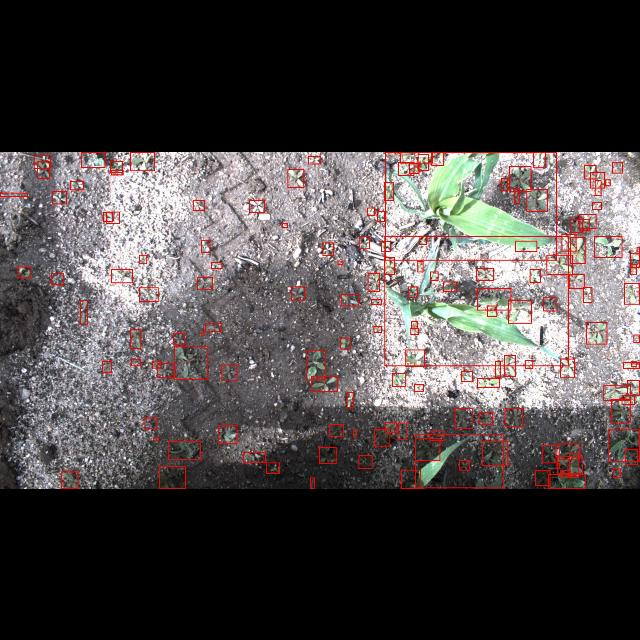crop: (384, 235, 568, 365), (385, 151, 557, 259), (415, 434, 503, 488)
weed: (174, 346, 208, 378), (608, 429, 640, 461), (477, 287, 511, 309), (168, 440, 200, 460), (482, 441, 508, 465), (306, 350, 326, 380), (159, 466, 185, 488), (594, 236, 622, 256), (548, 474, 586, 488), (416, 438, 440, 460), (508, 300, 532, 322), (547, 254, 573, 274), (526, 188, 548, 210), (586, 321, 608, 343), (510, 166, 530, 190), (130, 152, 154, 170), (558, 456, 582, 474), (612, 399, 630, 423), (604, 384, 630, 400), (570, 237, 586, 263), (312, 376, 338, 390), (402, 469, 421, 488), (454, 408, 472, 428), (218, 425, 238, 443), (558, 443, 580, 459), (624, 282, 640, 304), (81, 152, 105, 166), (505, 408, 523, 426), (401, 152, 433, 162), (111, 268, 132, 282), (288, 168, 304, 186), (374, 428, 390, 446), (406, 349, 424, 365), (319, 447, 336, 463), (504, 354, 516, 376), (62, 472, 78, 488), (580, 212, 596, 228), (561, 358, 575, 376), (542, 445, 556, 463), (140, 287, 158, 301), (562, 233, 576, 250), (34, 154, 50, 168), (158, 362, 172, 378), (222, 364, 236, 380), (536, 470, 550, 486), (590, 171, 604, 187), (243, 452, 265, 462), (37, 160, 49, 178), (368, 272, 380, 290), (341, 293, 359, 305), (476, 268, 494, 280), (131, 328, 141, 348), (516, 240, 536, 250), (477, 378, 499, 387), (250, 198, 264, 212), (570, 274, 584, 288), (80, 299, 88, 323), (398, 162, 414, 174), (570, 453, 578, 477), (625, 449, 637, 465), (384, 181, 394, 199), (384, 256, 394, 274), (52, 191, 66, 203), (106, 211, 120, 223), (198, 277, 212, 289), (292, 286, 304, 300), (329, 424, 343, 436), (358, 456, 372, 468), (392, 374, 406, 386), (533, 152, 545, 166), (627, 380, 639, 394), (571, 218, 583, 232), (584, 164, 596, 178), (398, 422, 407, 440), (418, 153, 428, 169), (582, 286, 592, 302), (266, 462, 280, 473), (111, 160, 123, 172), (52, 272, 64, 284), (18, 266, 30, 278), (432, 152, 444, 164), (480, 412, 492, 424), (544, 298, 556, 310), (630, 253, 640, 267), (530, 268, 540, 282), (322, 242, 333, 254), (205, 323, 221, 331), (346, 392, 354, 408), (430, 432, 444, 441), (173, 332, 184, 343), (144, 418, 156, 428), (360, 236, 370, 248), (444, 281, 456, 291), (622, 394, 634, 404), (579, 218, 589, 230), (612, 160, 622, 172), (0, 192, 28, 196), (70, 180, 84, 188), (193, 199, 204, 209), (462, 371, 472, 382), (102, 360, 111, 372), (386, 422, 396, 432), (340, 338, 350, 348), (409, 162, 419, 172), (459, 460, 469, 470), (487, 306, 497, 316), (408, 286, 418, 296), (202, 239, 210, 251), (308, 155, 320, 163), (500, 177, 508, 189), (623, 362, 639, 368), (382, 241, 391, 251), (514, 188, 520, 202), (595, 180, 601, 194), (430, 270, 438, 280), (560, 470, 570, 478), (417, 260, 423, 272), (496, 360, 500, 378), (414, 384, 424, 391), (111, 168, 122, 174), (104, 212, 112, 220), (140, 254, 146, 264), (212, 262, 222, 268), (371, 298, 381, 304), (378, 211, 384, 221), (614, 468, 620, 478), (630, 263, 636, 273), (592, 202, 602, 208), (419, 235, 426, 243), (152, 361, 160, 367), (132, 359, 140, 365), (374, 326, 382, 332), (412, 320, 418, 328), (411, 328, 419, 334), (526, 360, 532, 368), (634, 334, 640, 342), (368, 208, 374, 215), (310, 478, 314, 488), (636, 246, 640, 254), (353, 429, 357, 436), (282, 223, 288, 227), (556, 462, 560, 468), (632, 360, 636, 366), (606, 179, 610, 185), (338, 260, 342, 264), (154, 438, 158, 440), (202, 331, 204, 335)
